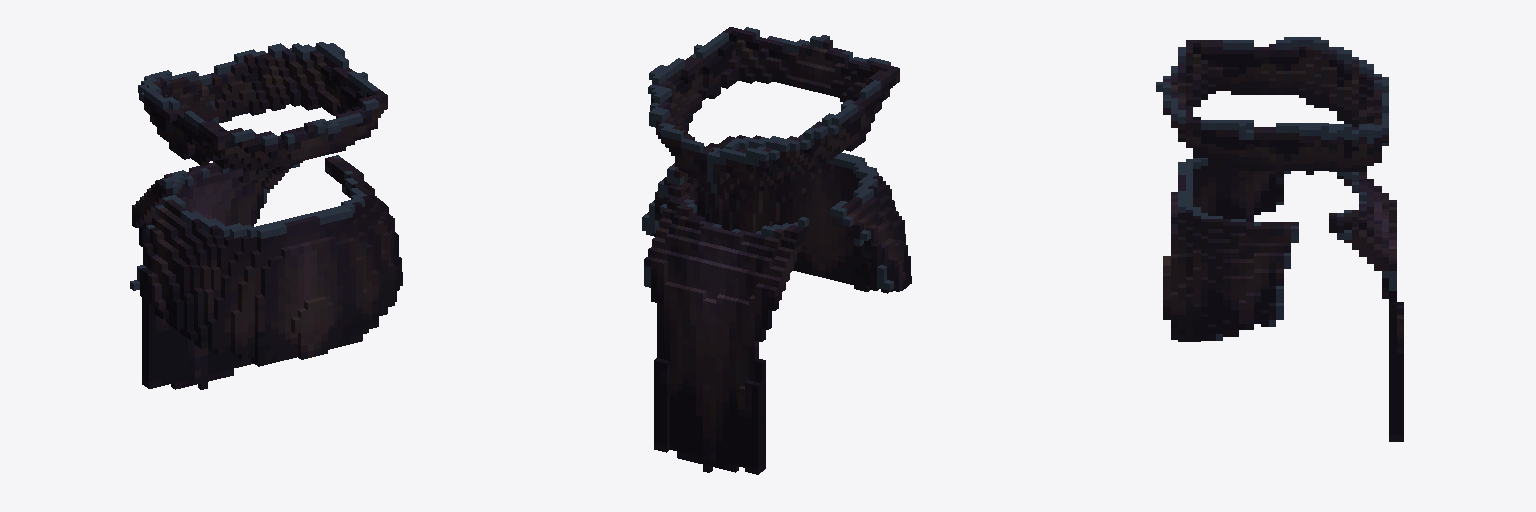
The picture shows the model from 3 angles: view 1: azimuth 30°, elevation 25°; view 2: azimuth 150°, elevation 25°; view 3: azimuth 270°, elevation 25°; orthographic projection.
Visible parts, largest first — view 1: object 1; view 2: object 1; view 3: object 1.
Boxes of the visible parts, x1=… form: object 1: x1=130, y1=42, x2=402, y2=389; object 1: x1=642, y1=27, x2=911, y2=474; object 1: x1=1156, y1=37, x2=1403, y2=441.
Bounding box in the file's own units: 3.8 × 5.1 × 3.3.
1 materials, 1 textured.